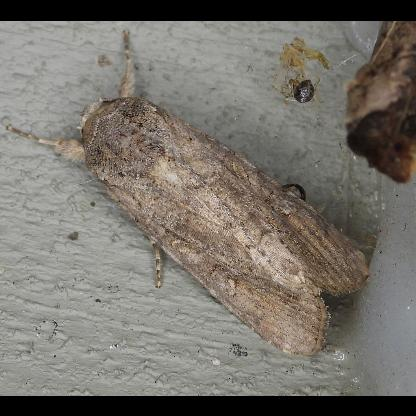Fall Armyworm Moth: (1, 25, 375, 362)
